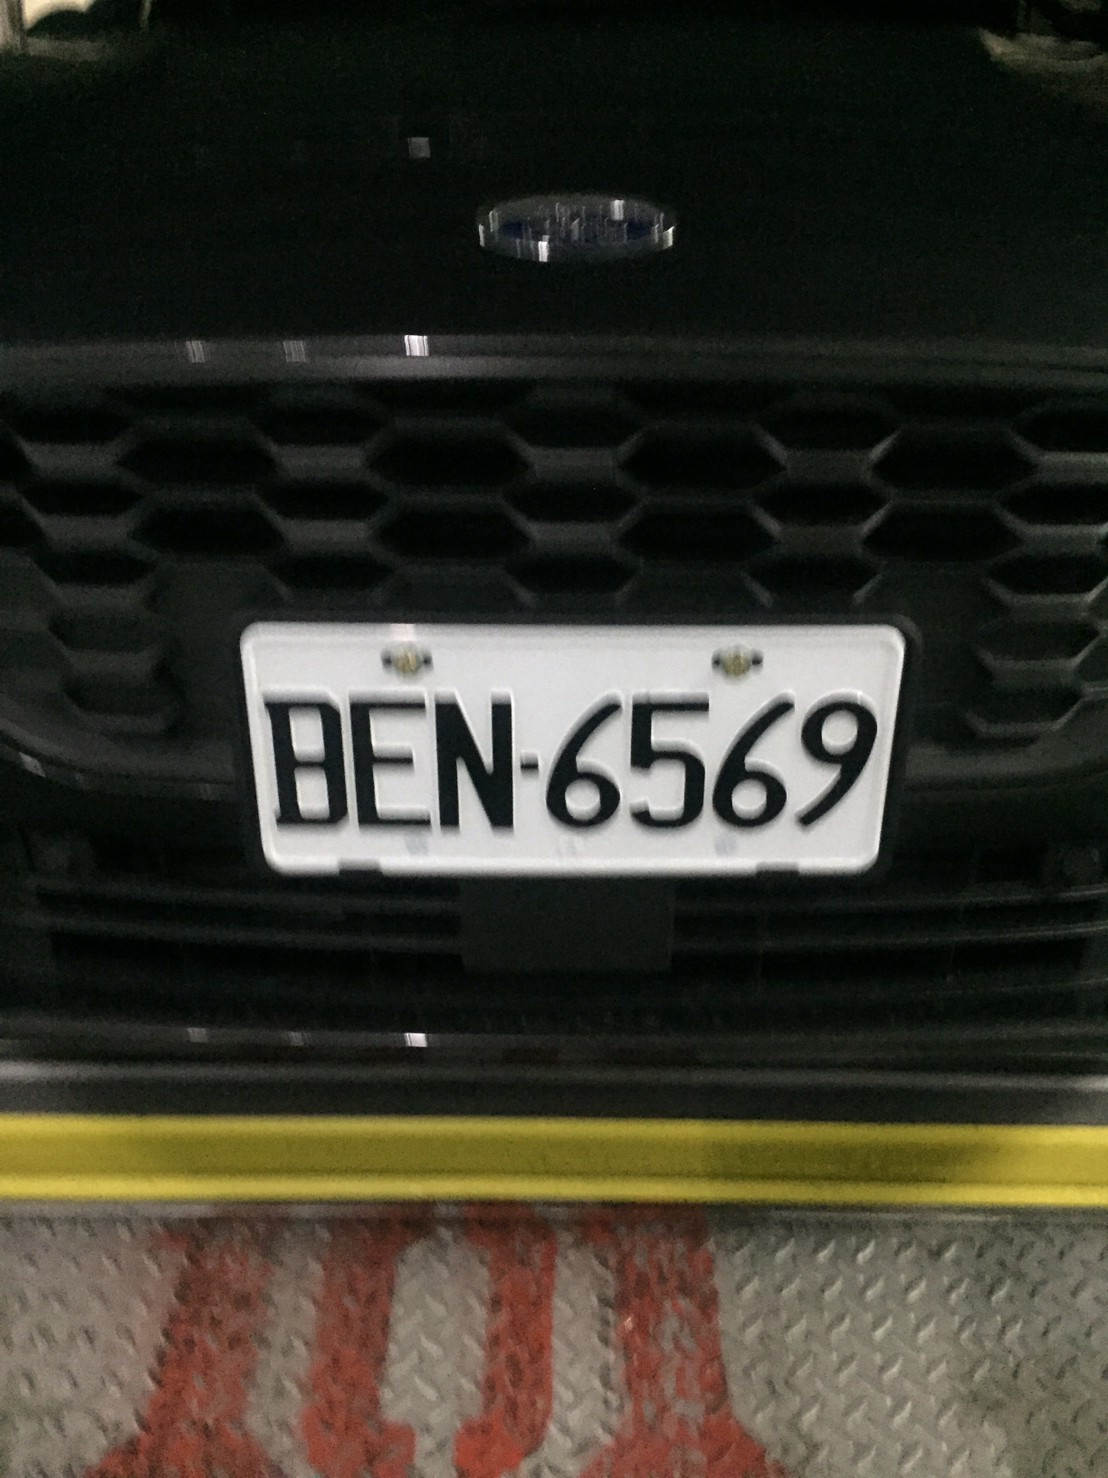LP: (252, 621, 886, 865)
